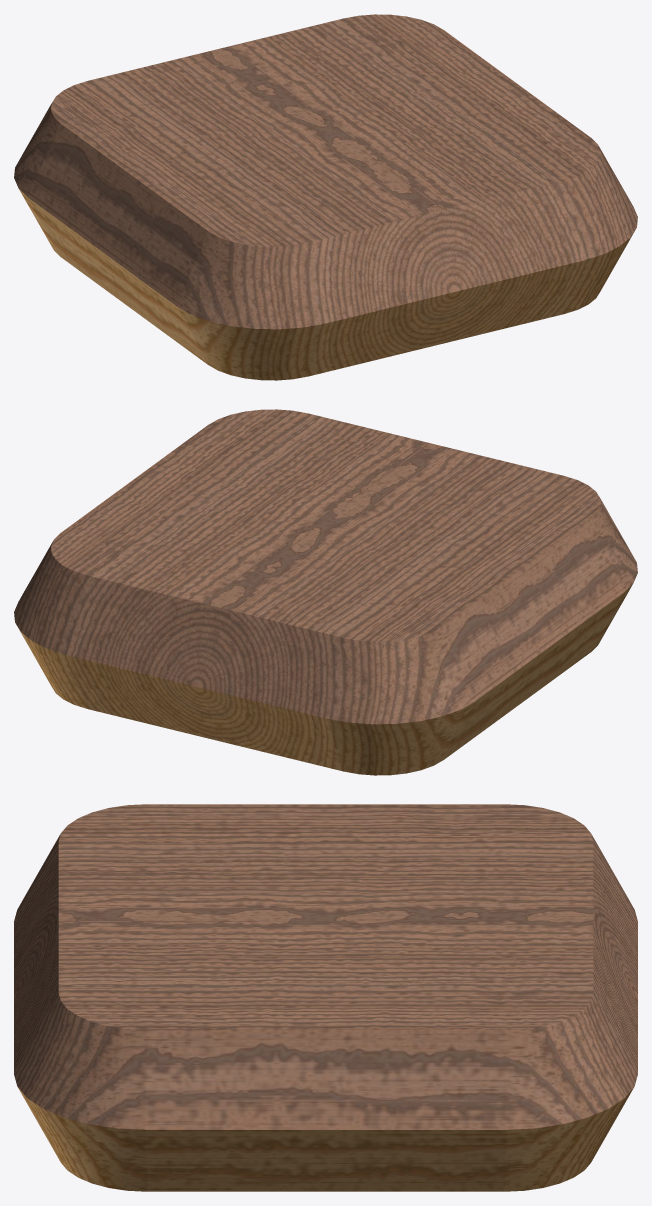
Rendered from model_animation.glb.
The picture shows the model from 3 angles, top to bottom: view 1: azimuth 30°, elevation 25°; view 2: azimuth 150°, elevation 25°; view 3: azimuth 270°, elevation 25°; orthographic projection. The views are drawn at different scales.
Visible parts, largest first — view 1: Rectangle1001, Rectangle0001; view 2: Rectangle1001, Rectangle0001; view 3: Rectangle1001, Rectangle0001.
Part boxes in pixels (x1=…): Rectangle1001: x1=14, y1=14, x2=637, y2=329; Rectangle0001: x1=19, y1=189, x2=634, y2=380; Rectangle1001: x1=14, y1=409, x2=637, y2=724; Rectangle0001: x1=17, y1=584, x2=632, y2=775; Rectangle1001: x1=14, y1=804, x2=637, y2=1129; Rectangle0001: x1=18, y1=1087, x2=633, y2=1191.
Size of the model in its own units: 0.07 by 0.02 by 0.07.
2 materials, 2 textured.
